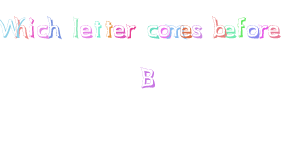B: (141, 66, 157, 89)
W: (1, 17, 21, 38)
b: (211, 14, 225, 38)
c: (146, 23, 159, 39), (36, 23, 49, 37)
e: (112, 23, 126, 38), (268, 23, 281, 38), (224, 23, 236, 39), (80, 24, 93, 38), (180, 22, 191, 38)
f: (236, 15, 246, 38)
h: (14, 15, 29, 39), (47, 15, 62, 38)
i: (27, 18, 38, 38)
l: (72, 16, 79, 38)
m: (167, 22, 185, 39)
o: (245, 23, 259, 38), (158, 23, 171, 38)
r: (126, 22, 137, 39), (257, 23, 268, 38)
s: (191, 23, 203, 39)
t: (104, 19, 112, 38), (94, 19, 101, 38)
